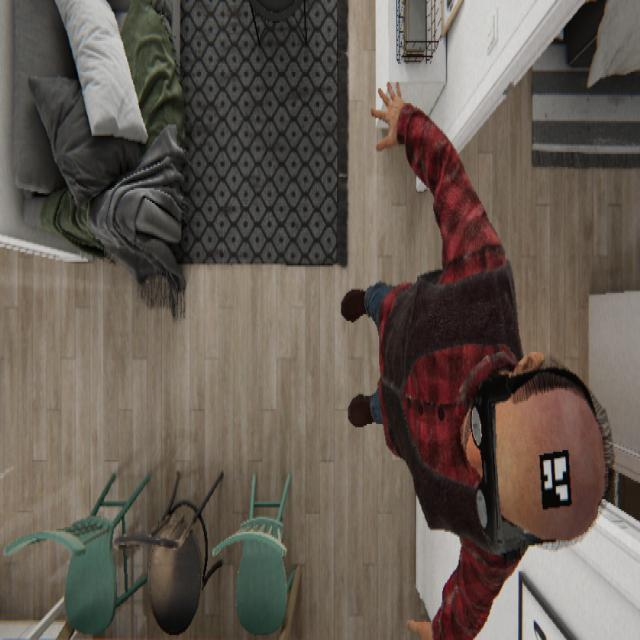AruCO: (538, 445, 572, 511)
Human: (340, 79, 615, 636)
